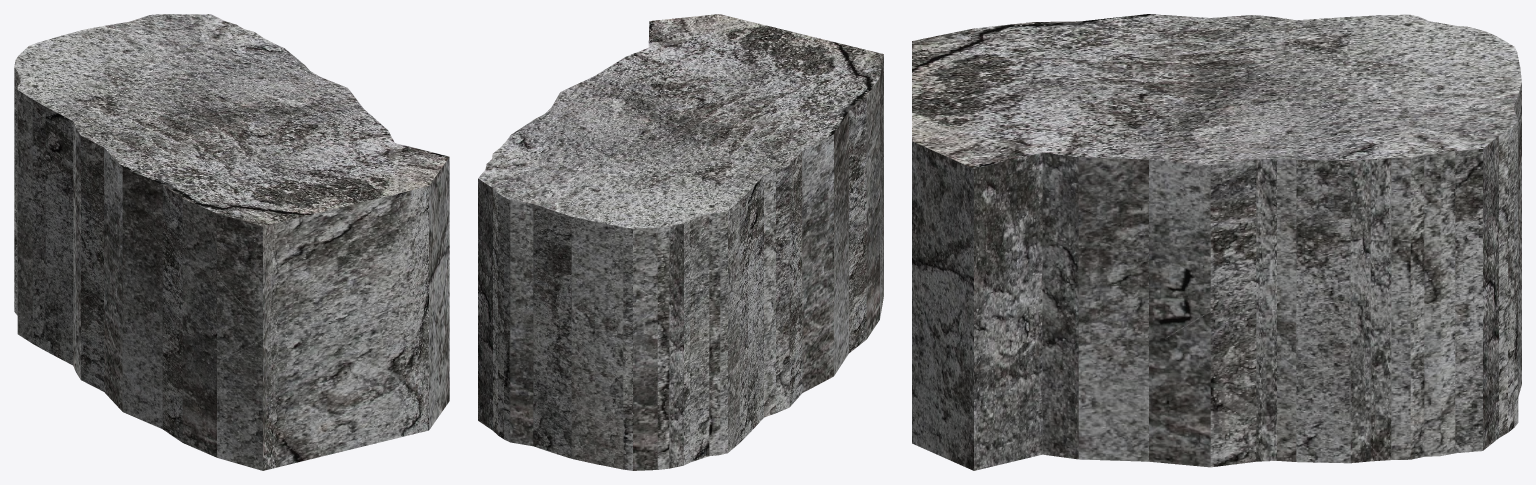
File: base_pedra3.fbx
3 renders of one model, left to right at view 1: azimuth 30°, elevation 25°; view 2: azimuth 150°, elevation 25°; view 3: azimuth 270°, elevation 25°, orthographic. The views are drawn at different scales.
Parts seen in each view (by area): view 1: Object_1; view 2: Object_1; view 3: Object_1.
Boxes of the visible parts, <box> form: Object_1: <box>14,14,449,470</box>; Object_1: <box>478,14,883,470</box>; Object_1: <box>912,14,1521,470</box>.
Bounding box in the file's own units: 141 × 235 × 128.
Materials: 1 (1 with a texture image).
